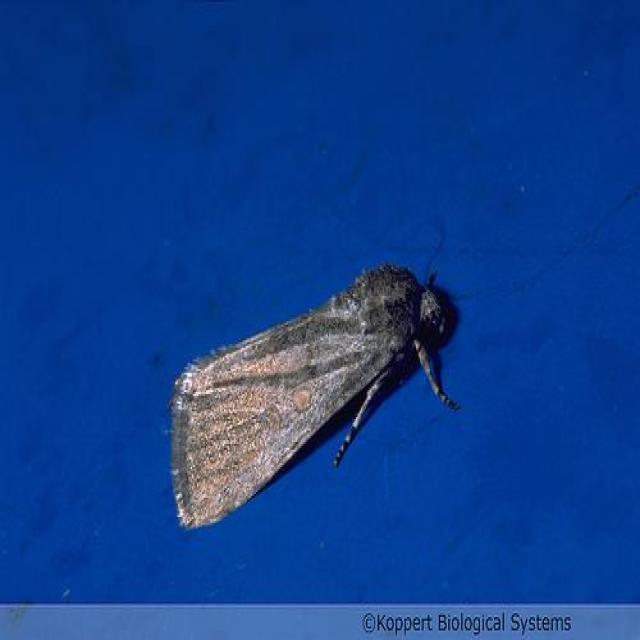BeetArmyWorm-Adult-: (158, 250, 460, 540)
